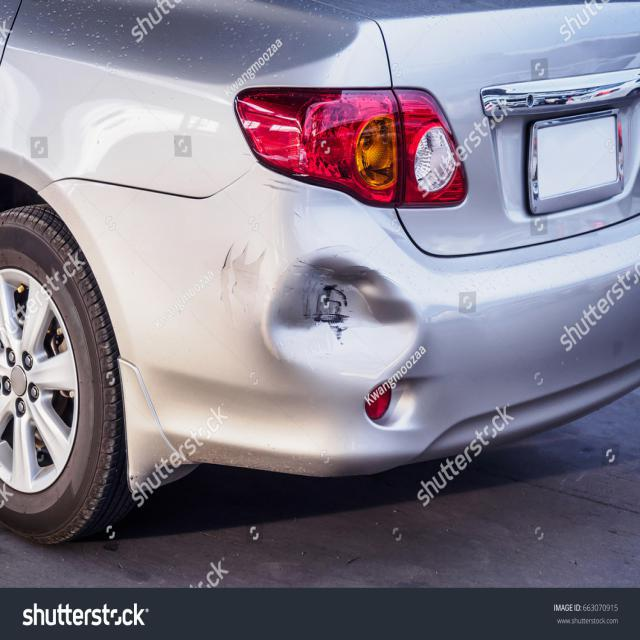rear-bumper-dent: (55, 173, 508, 492)
